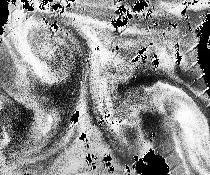CE: (12, 15, 87, 86)
